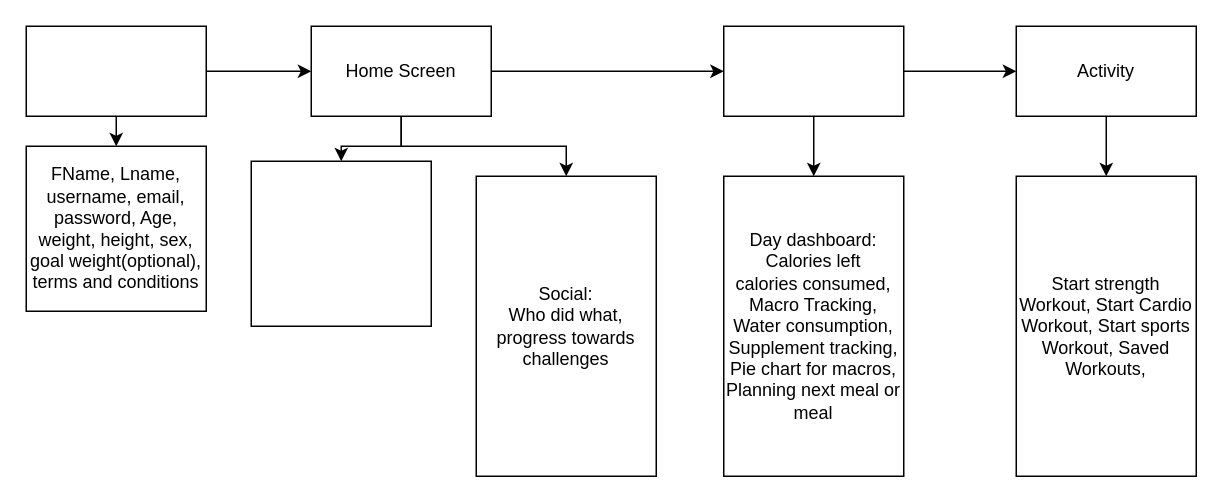
The diagram is 1223 pixels wide and 503 high, and some of its shapes have lost their labels. The shapes that lost their labels are listed below. From the top down, each one's centre as x and y in pixels, then its label:
At point (115, 70): "Create an account".
At point (813, 70): "Dietary".
At point (340, 243): "Tabs: Home, Diet, Activity,social, Account, Sleep (Not prioritize)".
